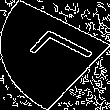L_SE: (15, 28, 95, 82)
